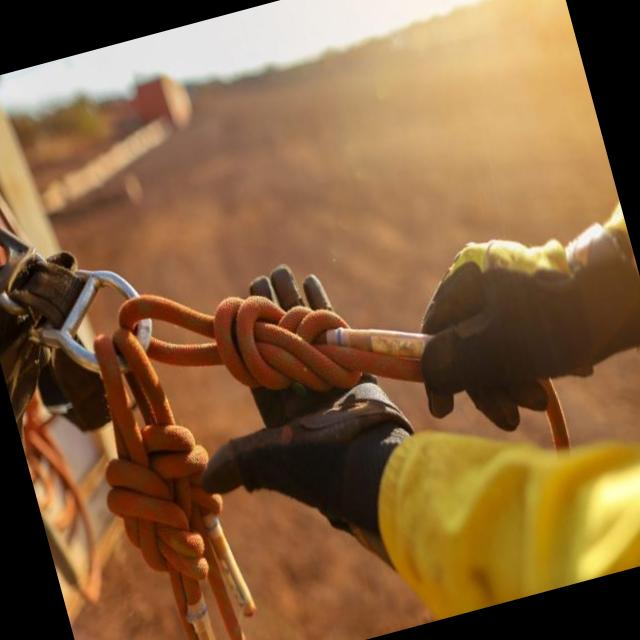Gloves: (146, 218, 433, 522), (386, 206, 635, 455)
